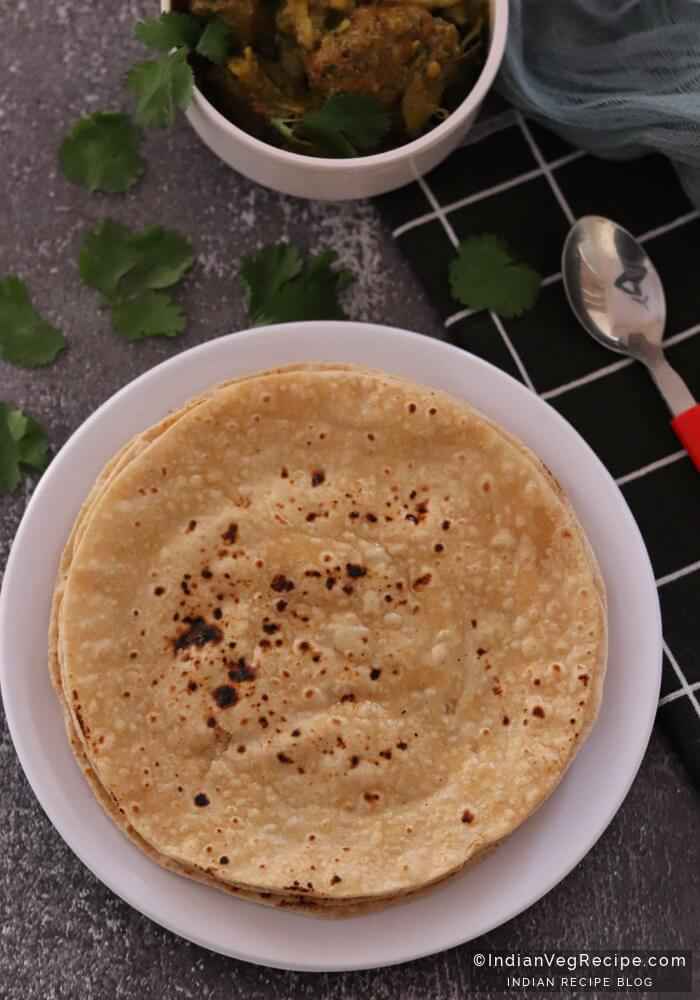curry: (191, 6, 494, 155)
roti: (36, 352, 623, 933)
